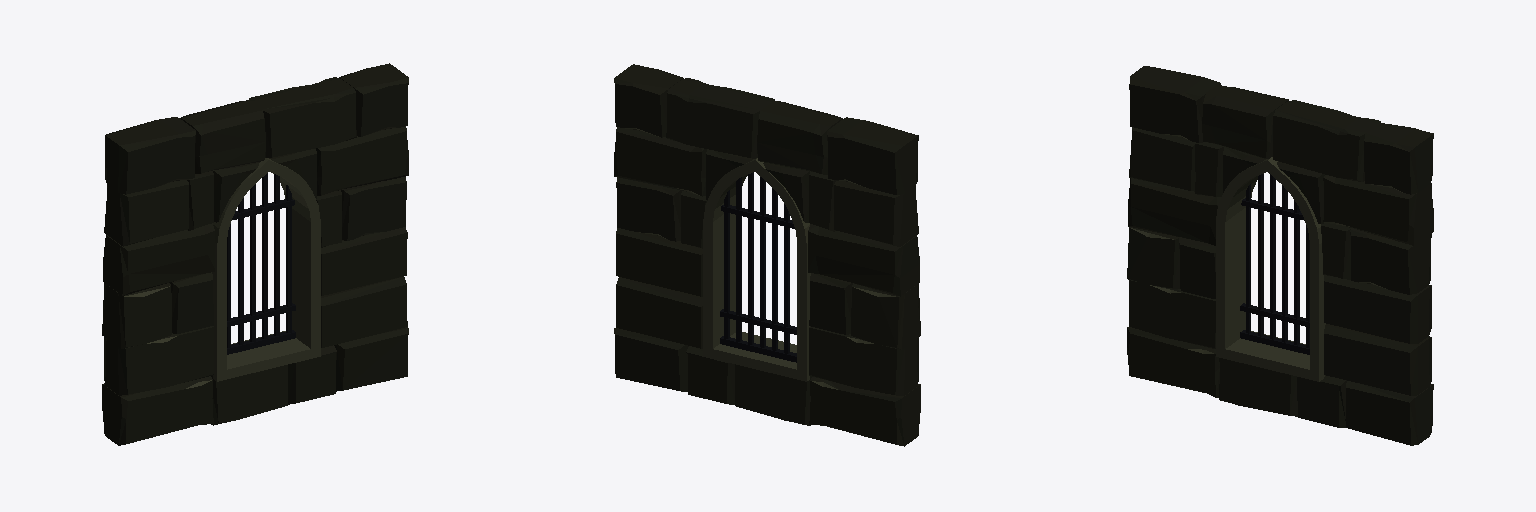
Rendered from Window_Bars.obj.
3 views of the same model, side by side, from view 1: azimuth 30°, elevation 25°; view 2: azimuth 150°, elevation 25°; view 3: azimuth 330°, elevation 25° (orthographic).
Parts seen in each view (by area): view 1: Window_Bars; view 2: Window_Bars; view 3: Window_Bars.
Part boxes in pixels (left/top/right/bottom): Window_Bars: left=102, top=63, right=408, bottom=445; Window_Bars: left=614, top=64, right=920, bottom=446; Window_Bars: left=1127, top=66, right=1433, bottom=445.
Bounding box in the file's own units: 1.99 × 1.99 × 0.3029.